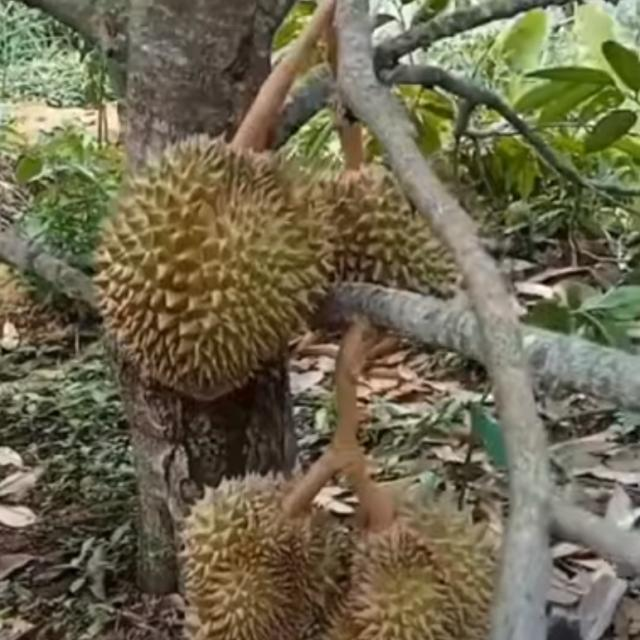mature: (91, 133, 325, 397), (175, 467, 337, 640)
